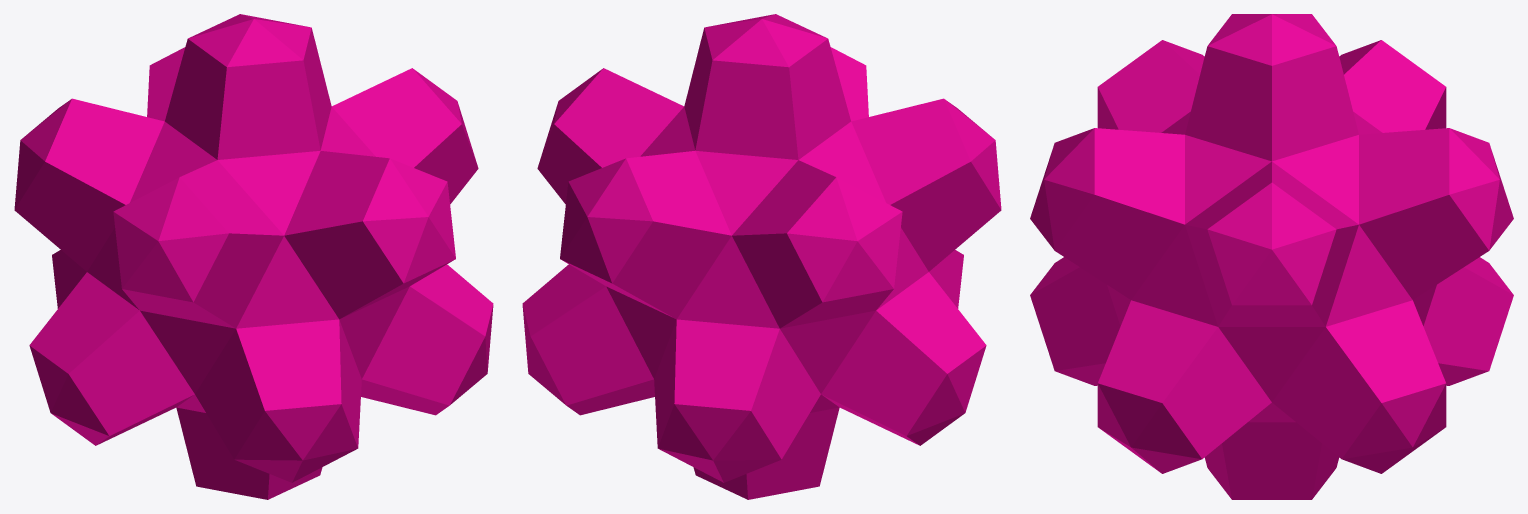
Rendered from itemShape.fbx.
3 views of the same model, side by side, from view 1: azimuth 30°, elevation 25°; view 2: azimuth 150°, elevation 25°; view 3: azimuth 270°, elevation 25° (orthographic).
Visible parts, largest first — view 1: Icosphere.001; view 2: Icosphere.001; view 3: Icosphere.001.
Boxes of the visible parts, left/top/right/bottom form: Icosphere.001: left=14, top=14, right=493, bottom=499; Icosphere.001: left=522, top=14, right=1001, bottom=499; Icosphere.001: left=1030, top=14, right=1513, bottom=499.
Size of the model in its own units: 253 by 280 by 253.
